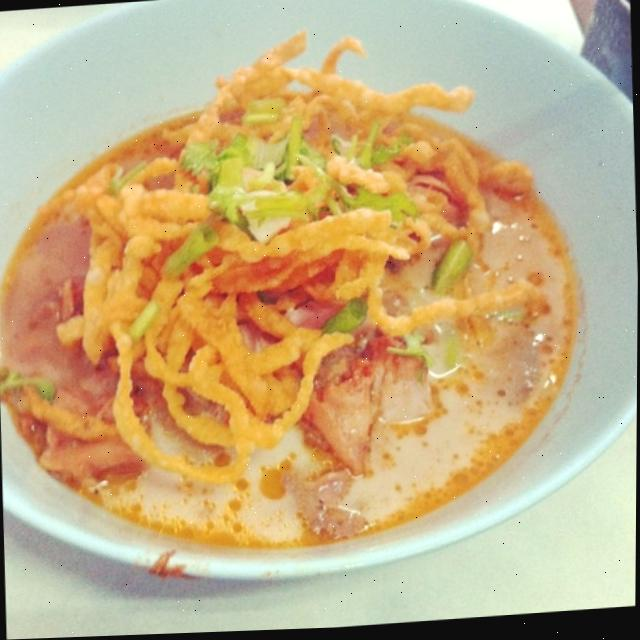面条主食: (0, 12, 608, 602)
